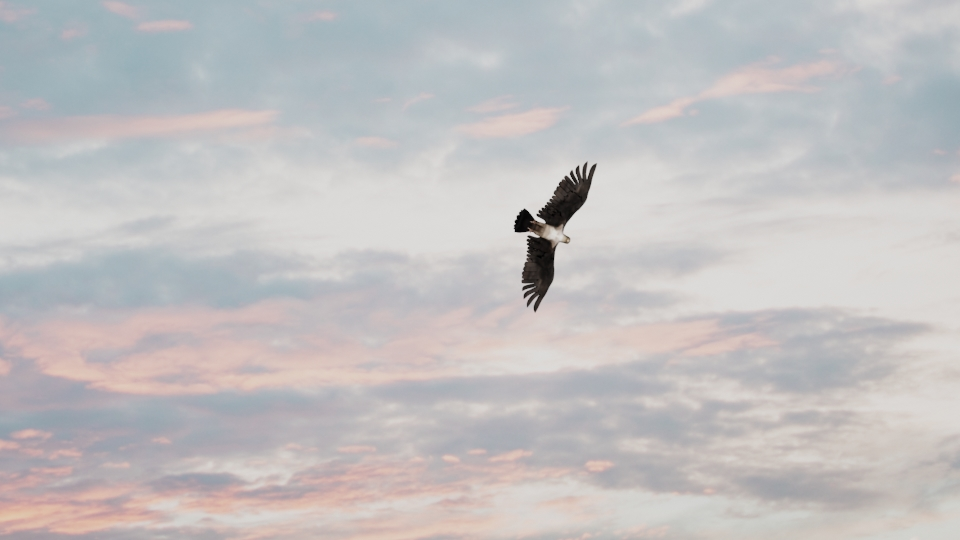bird: (509, 162, 596, 315)
